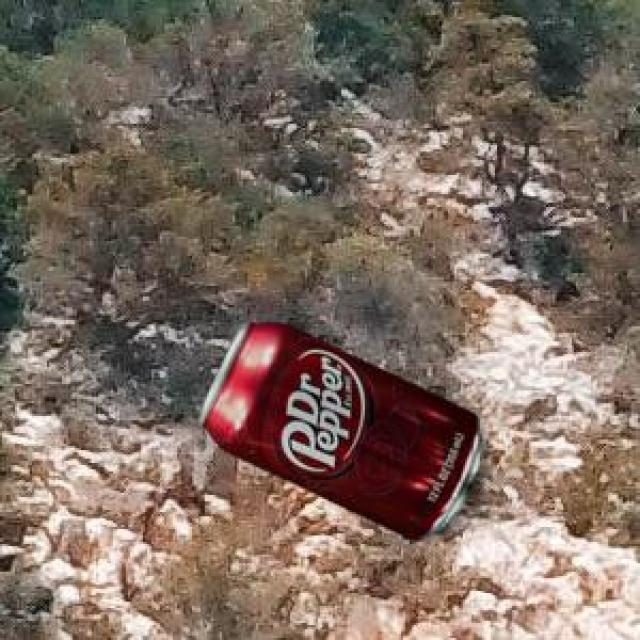logam: (195, 317, 479, 537)
